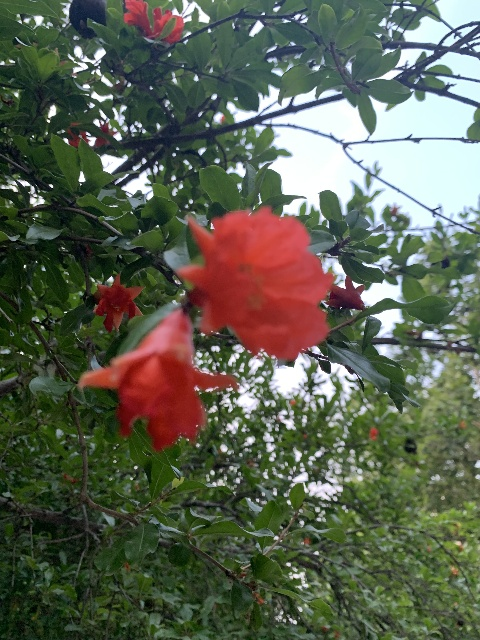flower: (176, 206, 336, 362), (78, 308, 239, 451), (92, 272, 144, 333), (327, 274, 366, 310), (149, 6, 184, 45), (123, 0, 152, 36)
